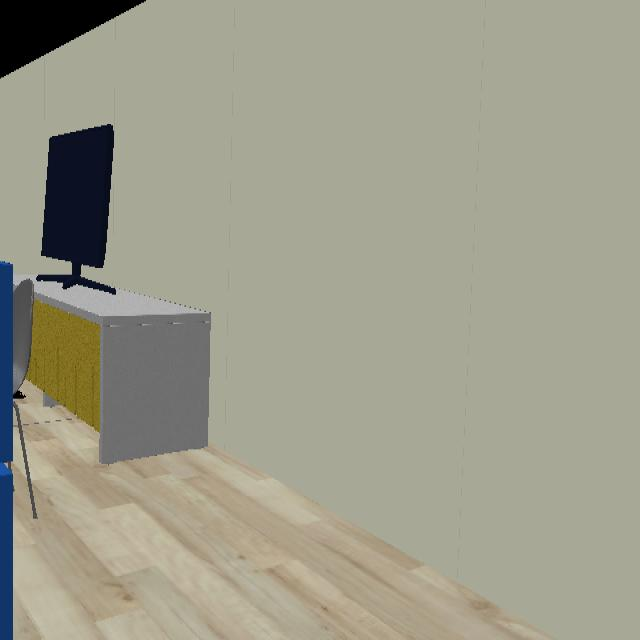chair: (9, 281, 48, 397)
monitor: (40, 125, 115, 285)
table: (31, 279, 212, 463)
